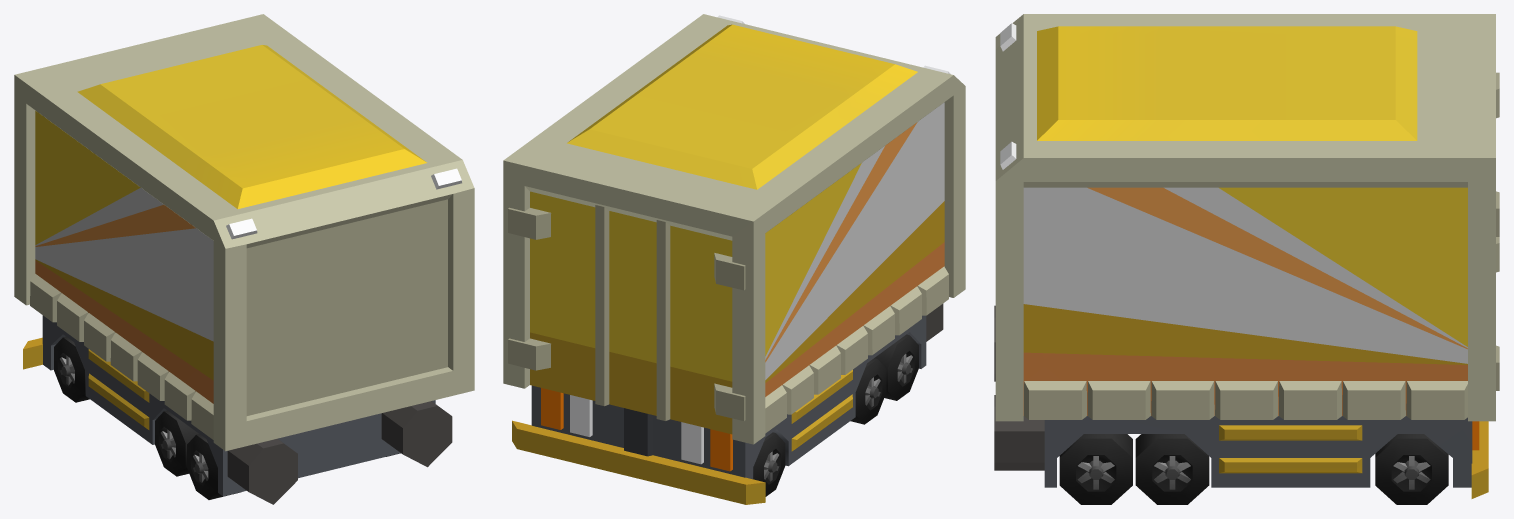
The model's file is cargo_03_A_1.fbx.
3 views of the same model, side by side, from view 1: azimuth 30°, elevation 25°; view 2: azimuth 150°, elevation 25°; view 3: azimuth 270°, elevation 25° (orthographic). The views are drawn at different scales.
Visible parts, largest first — view 1: cargo_03_A_1; view 2: cargo_03_A_1; view 3: cargo_03_A_1.
Part boxes in pixels (left/top/right/bottom): cargo_03_A_1: left=14, top=14, right=474, bottom=504; cargo_03_A_1: left=503, top=14, right=965, bottom=504; cargo_03_A_1: left=994, top=14, right=1499, bottom=504.
Size of the model in its own units: 1472 by 1742 by 2151.
